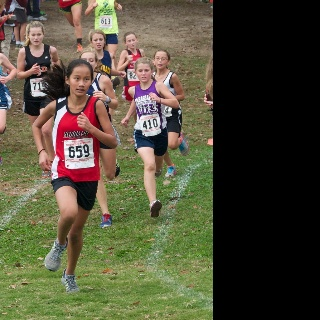without_mask: (67, 66, 91, 96), (135, 63, 152, 83), (27, 26, 43, 46), (91, 32, 107, 51), (153, 51, 169, 69), (126, 34, 137, 49)
